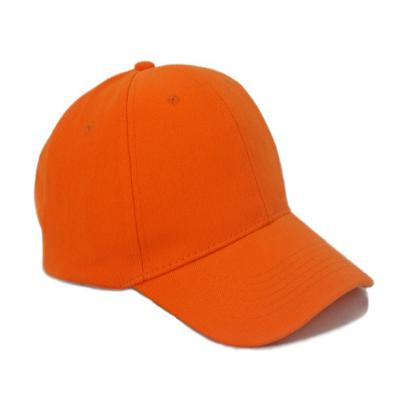cap: (29, 62, 373, 351)
